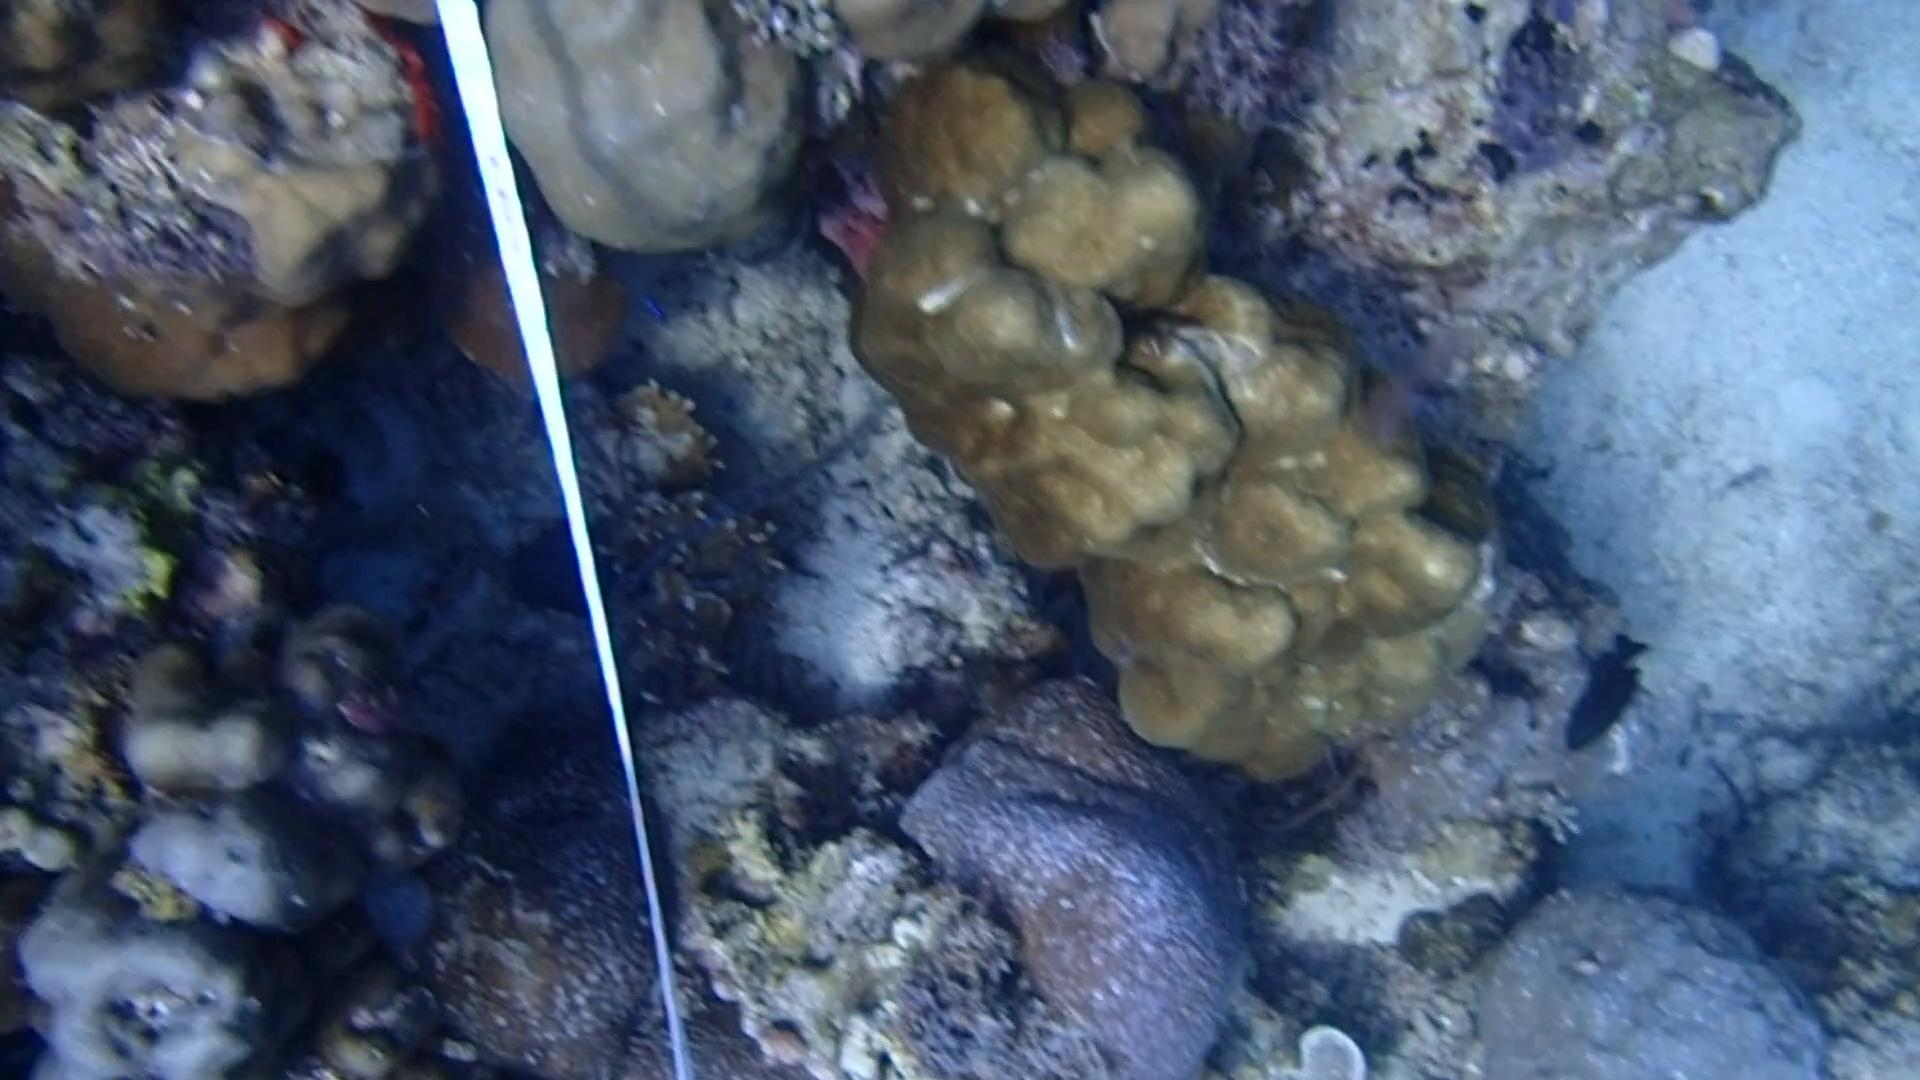Dark Fish: (1561, 624, 1658, 757)
